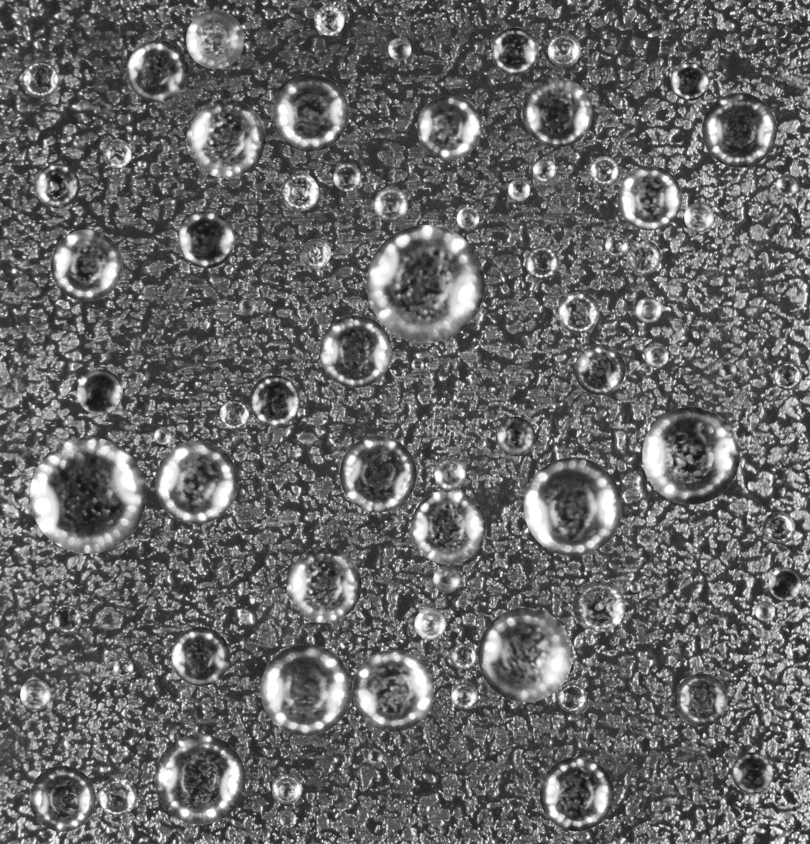Bubble: (366, 224, 484, 342), (29, 437, 146, 553), (523, 457, 622, 556), (642, 407, 739, 504), (478, 607, 572, 702), (260, 644, 352, 735), (154, 734, 245, 824), (155, 440, 238, 523), (352, 650, 434, 732), (186, 98, 265, 177), (270, 73, 348, 151), (339, 435, 416, 512), (286, 547, 361, 622), (539, 757, 614, 831), (702, 92, 776, 167), (411, 490, 485, 564), (319, 315, 392, 387), (50, 229, 122, 301), (522, 77, 592, 147), (29, 765, 95, 831), (617, 165, 682, 230), (417, 95, 481, 159), (126, 40, 188, 101), (171, 627, 230, 686), (186, 10, 244, 68), (178, 211, 234, 268), (674, 673, 727, 726), (572, 579, 625, 632), (574, 344, 625, 395), (249, 375, 300, 426), (491, 27, 538, 74), (77, 369, 122, 414), (35, 163, 79, 208), (558, 291, 599, 333), (732, 752, 773, 793), (495, 416, 535, 456), (98, 777, 136, 816), (671, 62, 709, 100), (280, 173, 318, 211), (22, 61, 59, 98), (373, 187, 408, 221), (626, 240, 661, 274), (525, 246, 559, 280), (547, 33, 580, 66), (769, 567, 802, 600), (762, 512, 795, 544), (434, 457, 465, 489), (414, 608, 446, 639), (271, 774, 302, 804), (20, 679, 50, 710), (51, 604, 81, 634), (314, 5, 344, 35), (301, 238, 331, 268), (219, 399, 249, 429), (684, 202, 714, 232), (773, 361, 802, 390), (589, 156, 618, 185), (103, 139, 131, 168), (558, 683, 586, 712), (333, 163, 361, 191), (635, 296, 662, 323), (433, 566, 460, 592), (451, 682, 477, 709), (450, 643, 476, 669), (644, 344, 668, 368), (775, 174, 799, 197), (388, 37, 411, 60), (533, 159, 556, 182), (605, 233, 628, 256), (456, 207, 479, 229), (508, 178, 530, 200), (113, 657, 133, 677), (755, 601, 775, 621), (719, 361, 736, 379), (154, 427, 171, 444), (238, 297, 255, 314), (279, 810, 296, 827), (367, 749, 383, 765), (411, 358, 424, 371), (629, 581, 640, 592)
